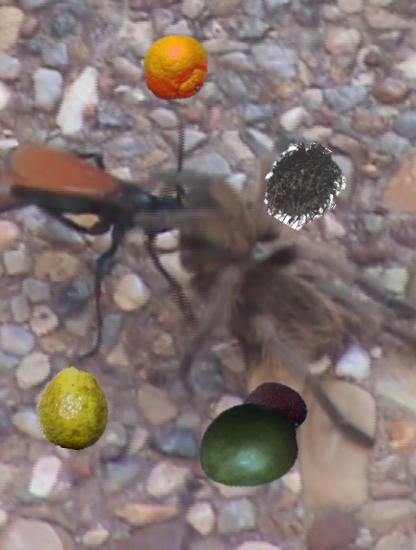Guava: (32, 367, 115, 450)
Mandarine: (142, 34, 211, 103)
Mango: (198, 393, 302, 497)
Rambutan: (261, 142, 347, 228)
Salak: (238, 377, 306, 445)
